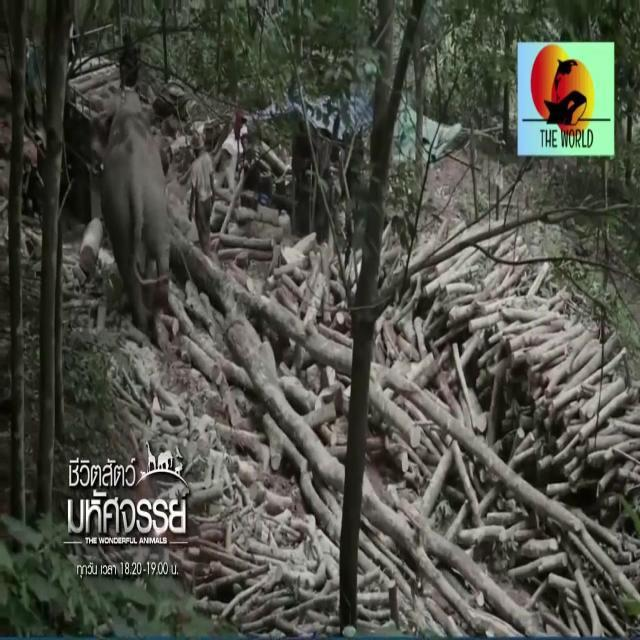Elephant: (98, 90, 164, 278)
